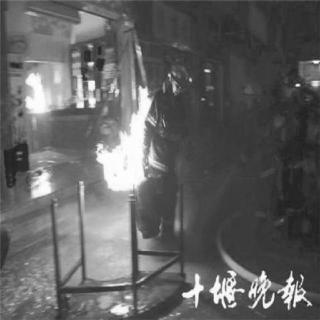Fire: (92, 72, 160, 190)
